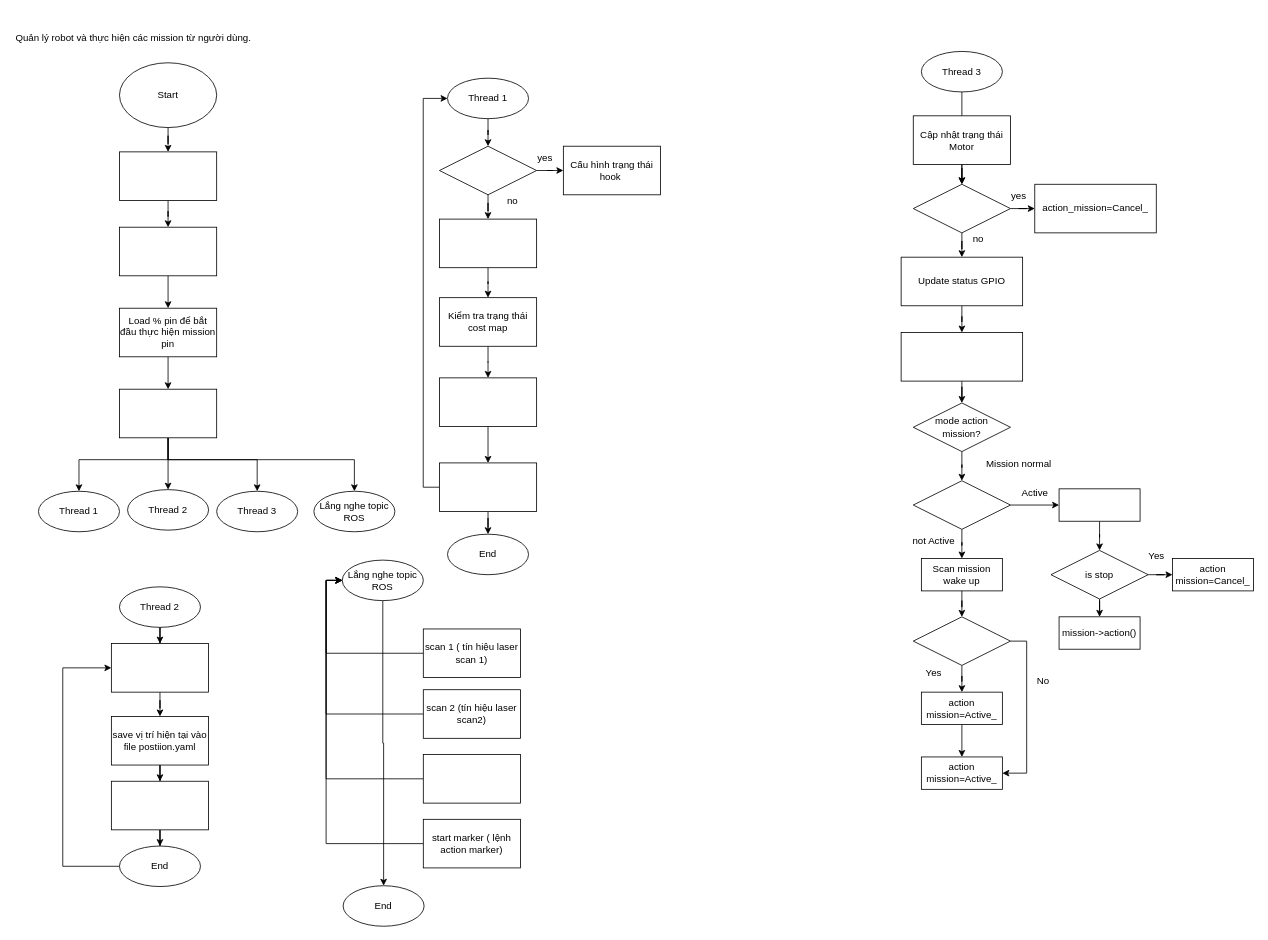
Some shapes in this 1268 by 940 pixel diagram are drawn without their labels. The shapes that lost their labels are listed below. From the top down, each one's box as (x1, y1, x2, y2) in pixels, then its label:
(119, 151, 217, 200): Get name_seri & mode
(439, 145, 537, 195): hook_swtich=1
(912, 183, 1010, 233): Motor emg ?
(119, 226, 217, 276): Khởi tạo service move base flex
(439, 218, 537, 268): Cấu hình trạng thái không hook
(900, 332, 1023, 381): Update status % battery
(119, 388, 217, 438): Load mission normal, error và battery
(439, 377, 537, 426): Pub patth infor, footprint infor
(439, 462, 537, 512): sleep 1000ms
(912, 480, 1010, 529): action mission ?
(1058, 488, 1140, 521): Scan mission stop
(912, 616, 1010, 665): is wake up
(111, 643, 209, 692): Lấy vị trí của robot so với map
(422, 754, 521, 803): scan ( tín hiệu cộng của 2 laser 1 & 2)
(111, 780, 209, 830): sleep 50ms
